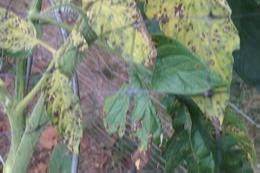Tomato Septoria leaf spot: (142, 0, 241, 134), (77, 0, 159, 88), (38, 72, 89, 163), (0, 9, 45, 62)
